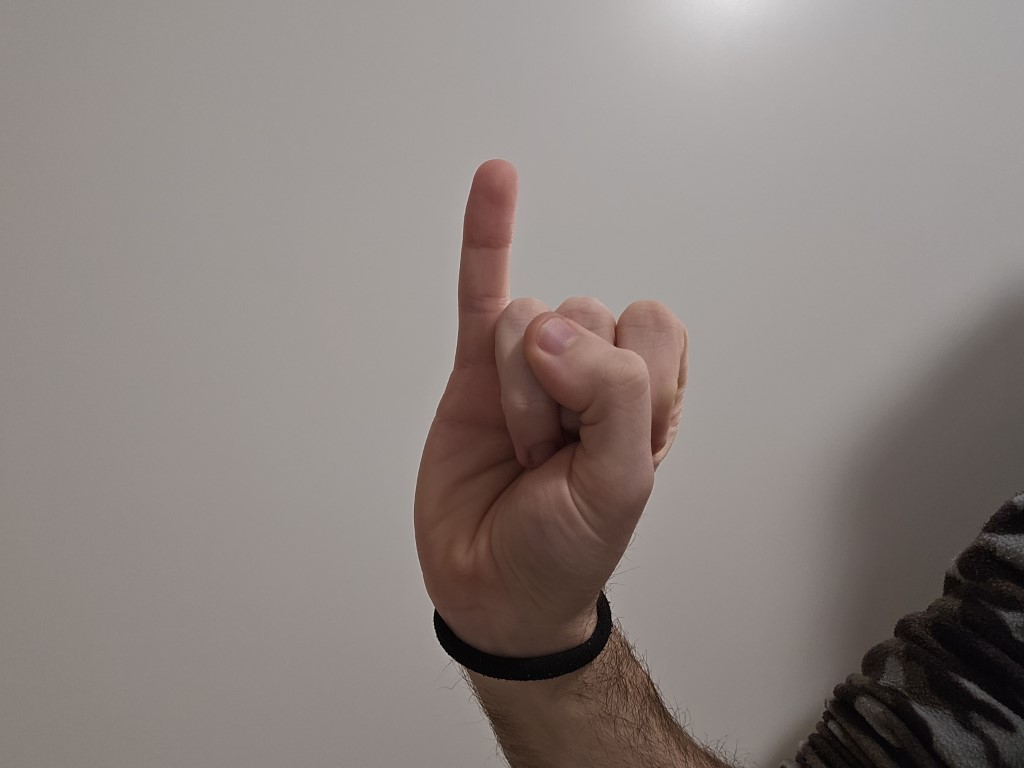i: (402, 155, 698, 609)
